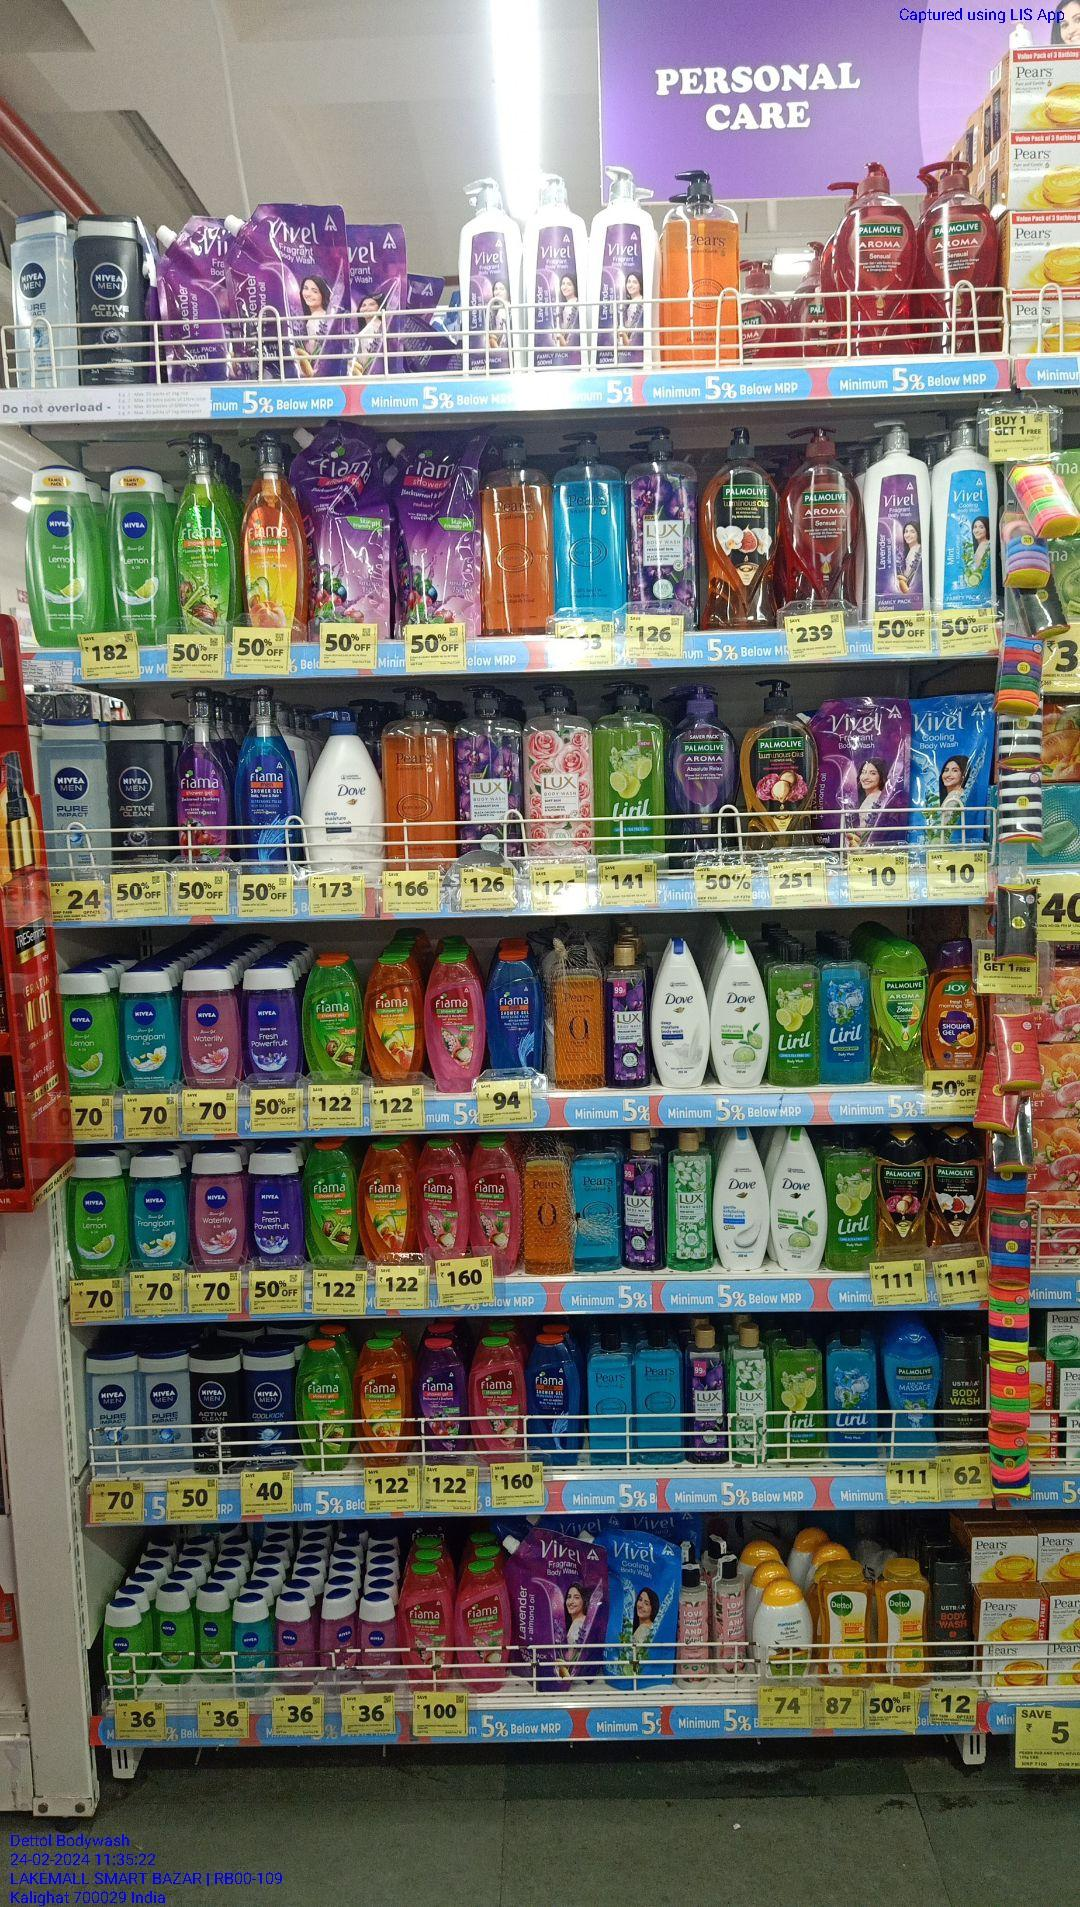Dettol_Bodywash_Refresh: (817, 1563, 874, 1686), (877, 1561, 931, 1684)
Dove_Deep_Moisture_Body_Wash_250ML: (653, 939, 708, 1086)
Dove_Gentle_Exfoliating_Body_Wash_250ML: (716, 1132, 768, 1269)
Dove_Refreshing_Body_Wash_250ML: (713, 942, 770, 1088), (776, 1134, 827, 1274)
Fiama_Shower_Gel_Lemongrass_and_Jojoba_250ML: (296, 1344, 356, 1470), (302, 956, 361, 1078), (308, 1145, 357, 1269)
Fiama_Shower_Gel_Patchouli_and_Macadamia_250ML: (423, 956, 488, 1090), (467, 1337, 529, 1459), (453, 1566, 512, 1690), (418, 1143, 471, 1257), (399, 1572, 452, 1687), (475, 1139, 521, 1265)
Fiama_Shower_Gel_Peach_and_Avocado_250ML: (365, 957, 423, 1084), (359, 1145, 416, 1260), (357, 1342, 410, 1462)
Joy_Shower_Gel_Mandarin_and_Lemongrass_250ML: (932, 943, 983, 1070)
Liril_Cooling_Mint_Body_Wash_250ML: (823, 943, 873, 1086), (829, 1327, 880, 1466)
Liril_Lime_and_Tea_Tree_Oil_Body_Wash_250ML: (774, 1328, 827, 1460), (831, 1130, 881, 1272), (772, 942, 819, 1087)
Lux_Black_Orchid_Scent_and_Juniper_Oil_Body_Wash_245ML: (605, 946, 652, 1086), (623, 1132, 662, 1272), (689, 1331, 728, 1463)
Lux_Body_Wash_Skin_Detox_Freesia_Scent_and_Alove_Vera_245ML: (669, 1133, 713, 1273), (729, 1329, 771, 1466)
Nivea_Shower_Gel_Frangipani_and_Oil_250ML: (127, 1157, 189, 1270), (120, 976, 178, 1088), (233, 1599, 276, 1683)
Nivea_Shower_Gel_Fresh_Powerfruit_250ML: (243, 969, 298, 1088), (249, 1151, 304, 1264)
Nivea_Shower_Gel_Lemon_and_Oil_250ML: (63, 1155, 127, 1276), (56, 973, 117, 1092), (157, 1589, 194, 1671), (105, 1604, 145, 1678), (192, 1591, 230, 1669)
Nivea_Shower_Gel_Waterlily_and_Oil_250ML: (183, 972, 243, 1090), (191, 1157, 246, 1269), (274, 1598, 318, 1683), (319, 1598, 359, 1686), (361, 1599, 398, 1679)
Palmolive_Aroma_Moments_Feel_The_Massage_Shower_Gel_250ML: (884, 1332, 940, 1458)
Palmolive_Aroma_Morning_Tonic_Shower_Gel_250ML: (876, 950, 927, 1084)
Palmolive_Luminous_Oils_Invigorating_Macadamia_Oil_With_Peony_250ML: (882, 1132, 928, 1263)
Palmolive_Luminous_Oils_With_White_Orchid_Shower_Gel_250ML: (931, 1133, 988, 1248)
Pears_Pure_Glycerin_and_Mint_Extracts_Body_Wash_250ML: (584, 1336, 635, 1466), (638, 1333, 685, 1463)
